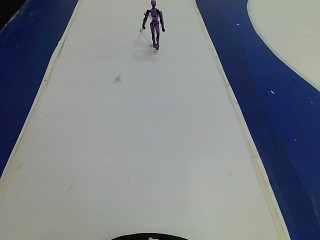pedestrian: (137, 0, 168, 51)
